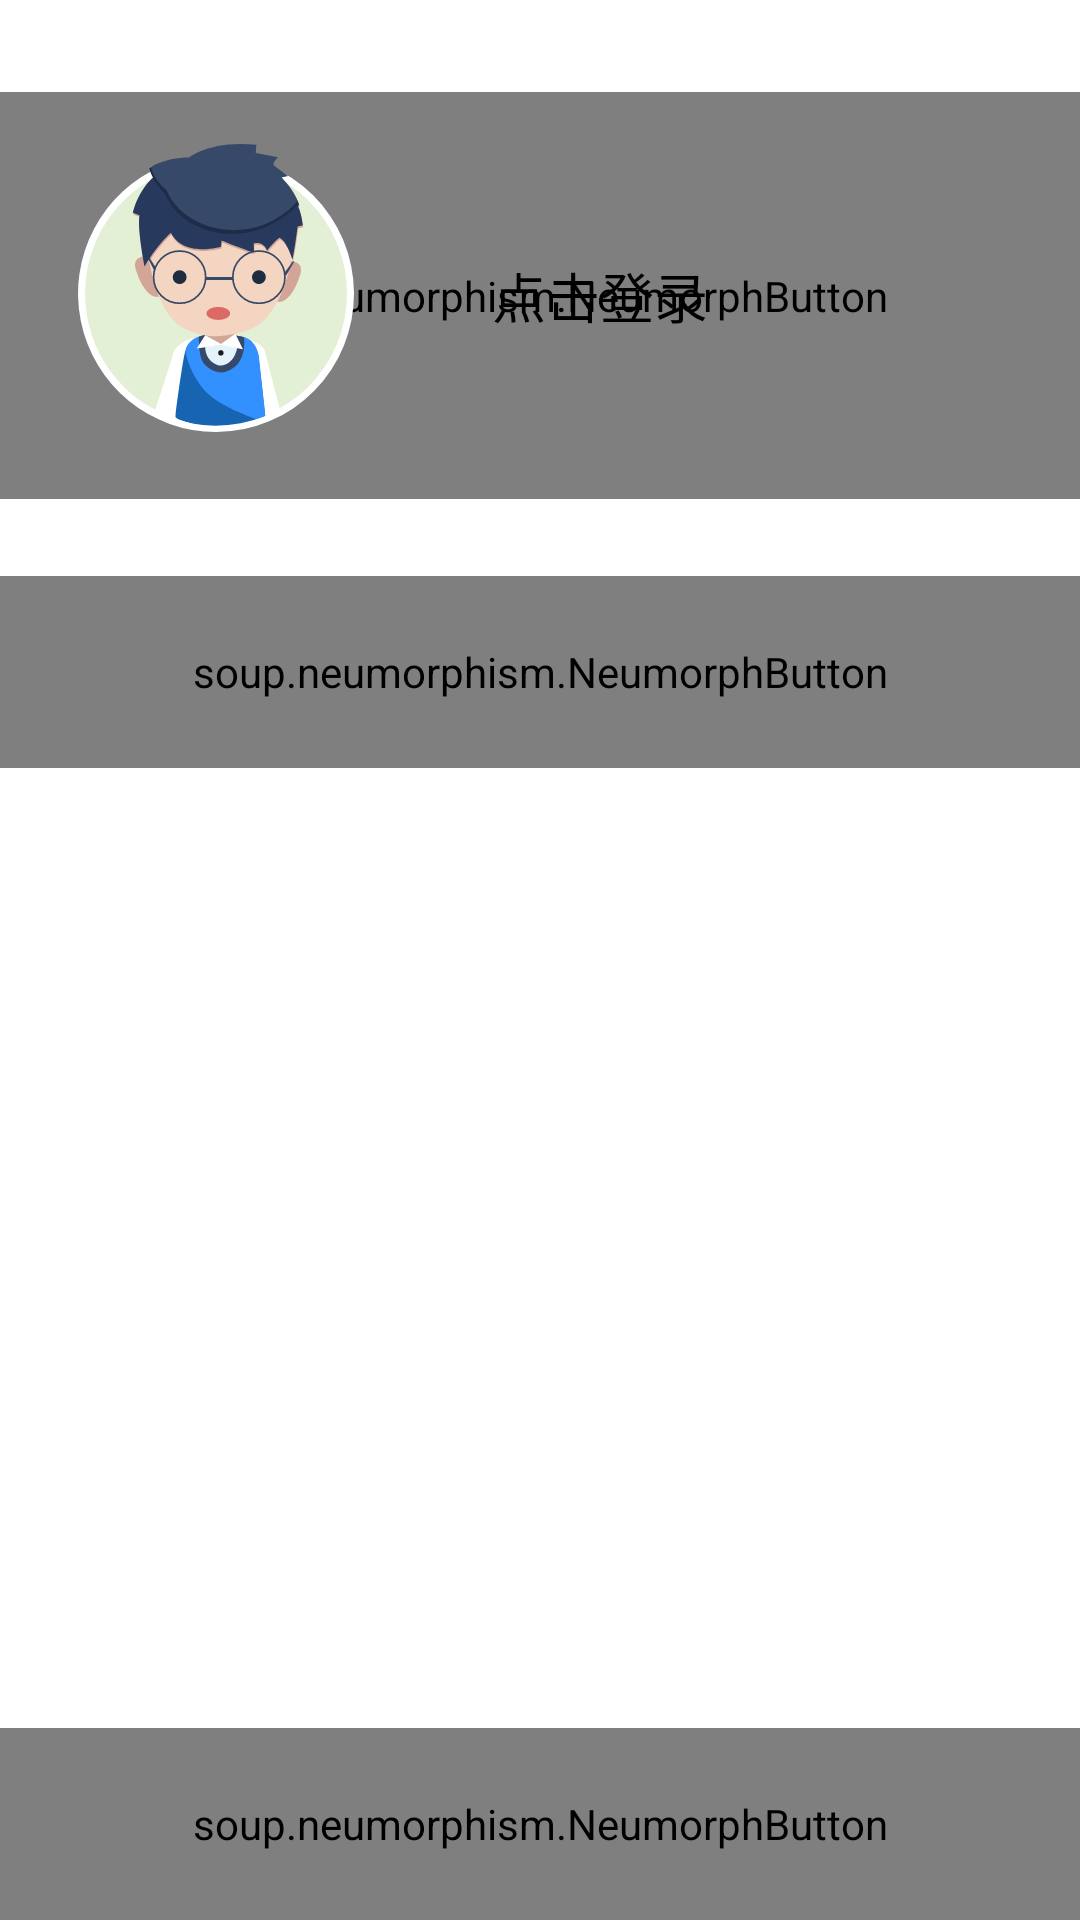

Screen size 1080px x 1920px. Icon name, then its box in pixels as (x1, y1, x2, y2):
headicon: (78, 144, 396, 432)
